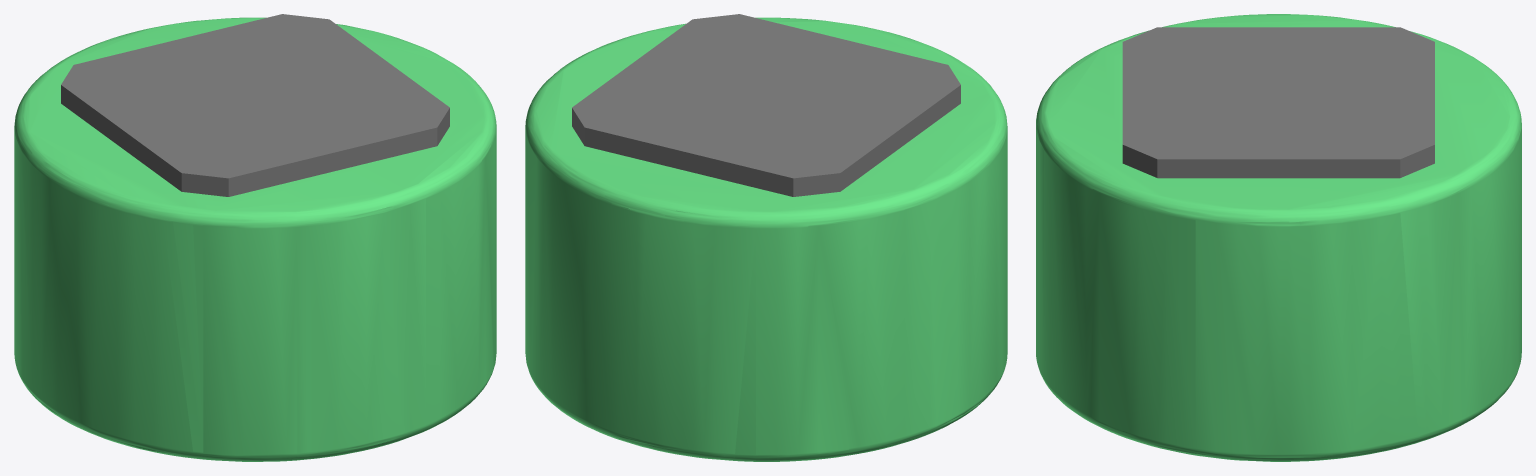
Rendered from FigureStandSquare.fbx.
The picture shows the model from 3 angles, left to right: view 1: azimuth 30°, elevation 25°; view 2: azimuth 150°, elevation 25°; view 3: azimuth 270°, elevation 25°; orthographic projection.
Visible parts, largest first — view 1: Figure Stand Square; view 2: Figure Stand Square; view 3: Figure Stand Square.
Boxes of the visible parts, x1,y1,x2,y2 form: Figure Stand Square: (14,14,496,461); Figure Stand Square: (525,14,1007,461); Figure Stand Square: (1036,14,1521,461).
Size of the model in its own units: 69.97 by 43 by 69.96.
